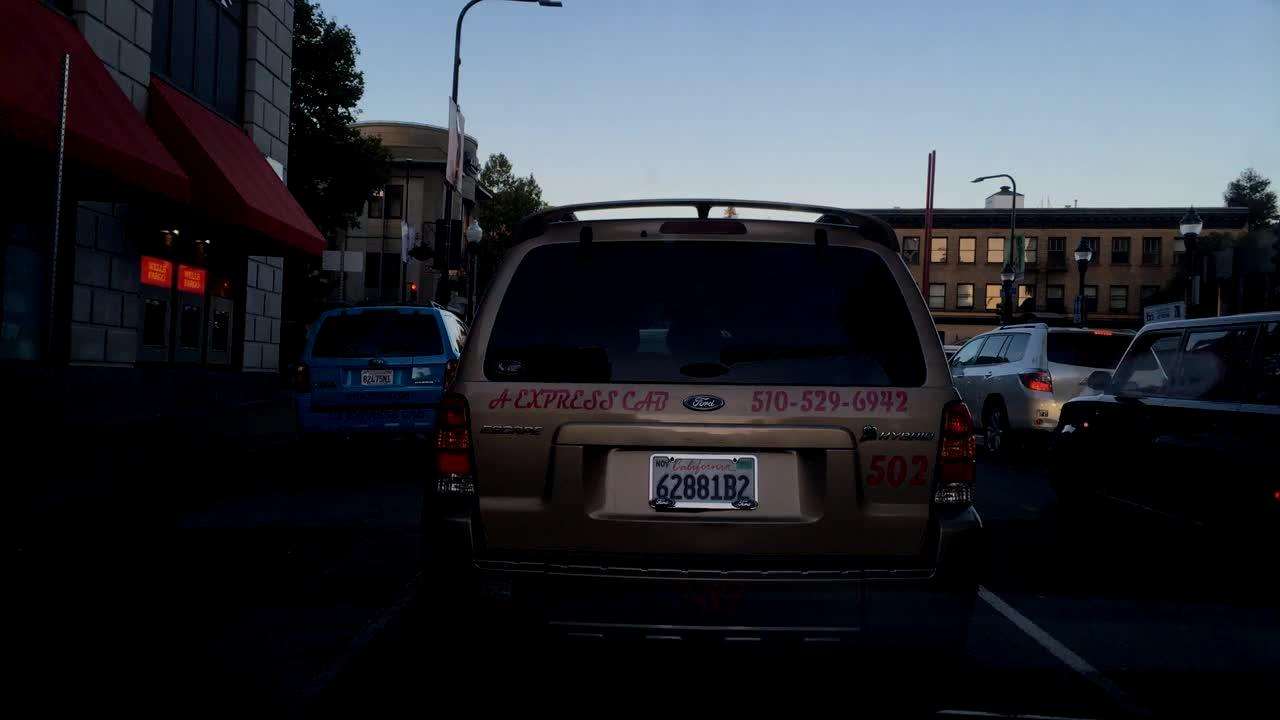ford: (681, 391, 736, 420)
